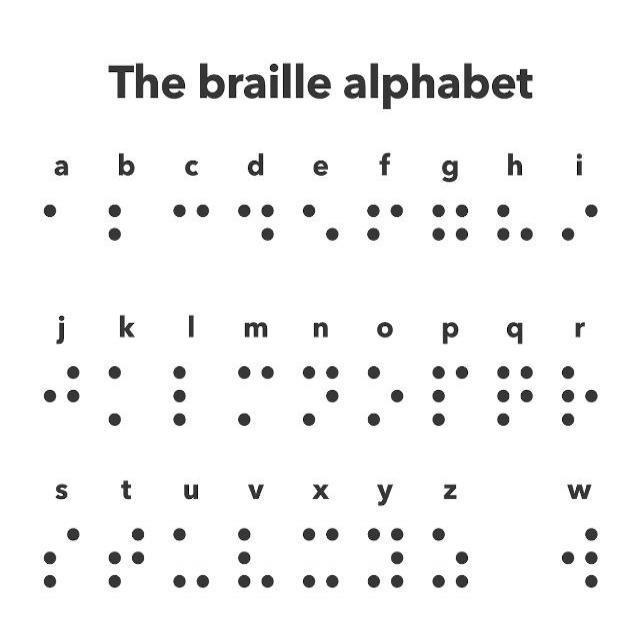braiile: (36, 352, 90, 436), (165, 356, 218, 439), (230, 356, 282, 438), (164, 519, 216, 600), (422, 356, 473, 438), (424, 191, 476, 270), (100, 356, 150, 438), (360, 357, 410, 439), (555, 518, 607, 596), (297, 356, 345, 439), (33, 192, 85, 268), (489, 193, 539, 272), (556, 194, 606, 273), (422, 520, 473, 597), (232, 193, 284, 268), (490, 356, 540, 434), (295, 518, 345, 596), (36, 519, 86, 596), (230, 519, 280, 596), (166, 194, 218, 268), (100, 194, 152, 267), (103, 517, 151, 596), (298, 193, 348, 268), (360, 193, 410, 268), (556, 356, 604, 432), (361, 520, 409, 595)
